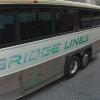Bus: (2, 2, 97, 95)
